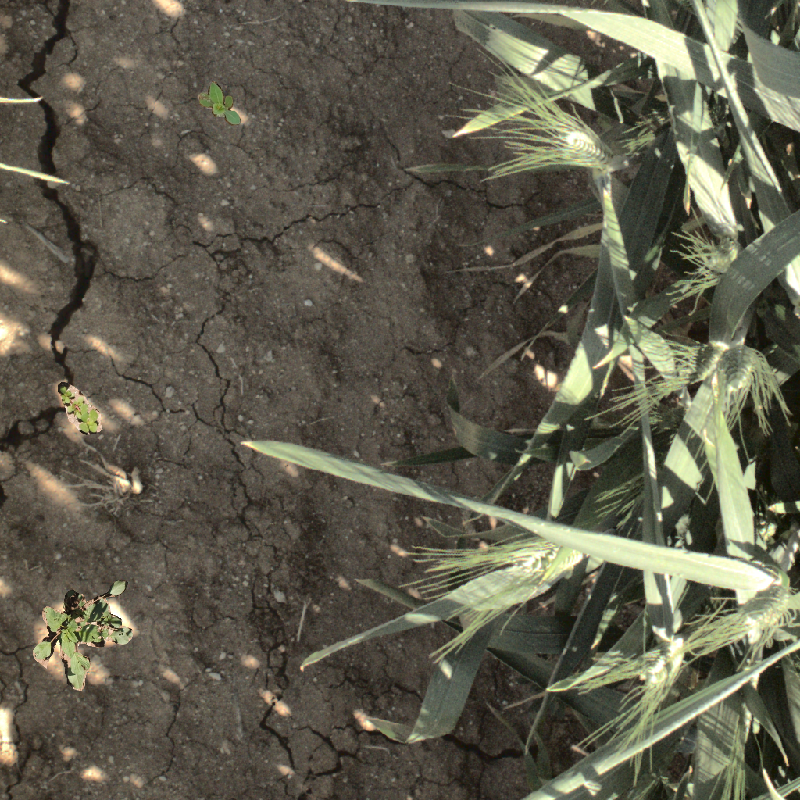spikelet: (724, 586, 793, 647), (520, 536, 597, 577), (638, 633, 688, 695), (559, 125, 622, 174), (720, 344, 756, 393), (691, 338, 728, 381)
weed: (25, 577, 138, 697), (56, 383, 107, 436), (199, 81, 241, 126)
